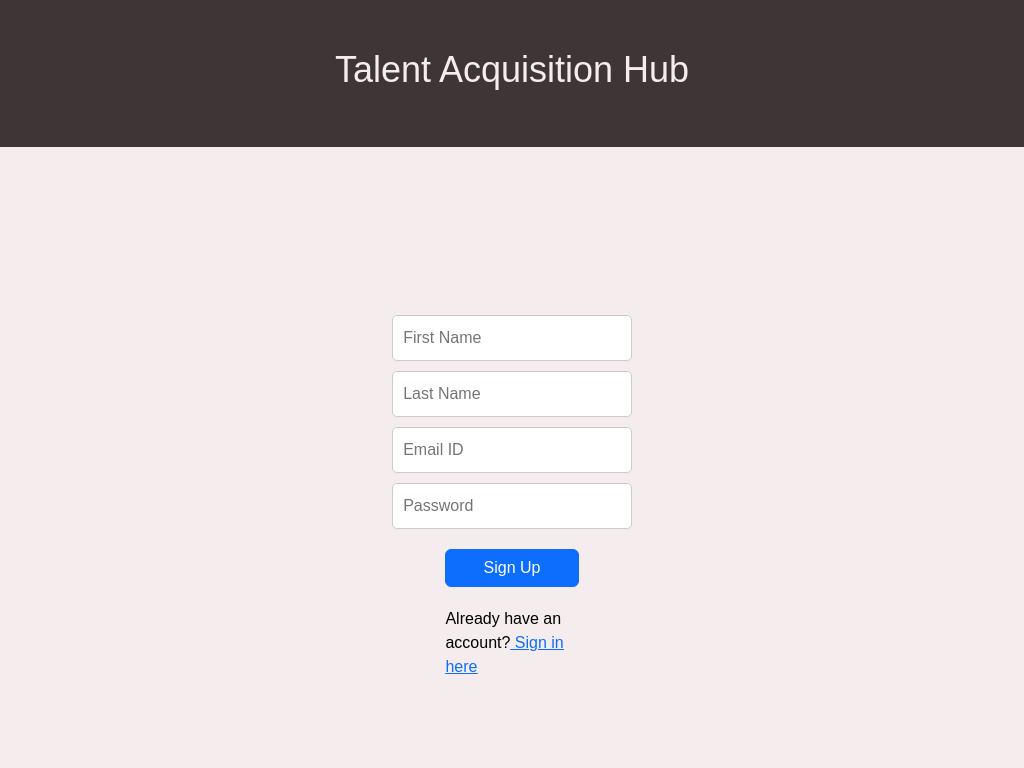
Test case: Register Page › should show a success message after submitting valid registration data
Type "navya" into the field with placeholder "First Name" at (512, 338), box [392,315,632,361]
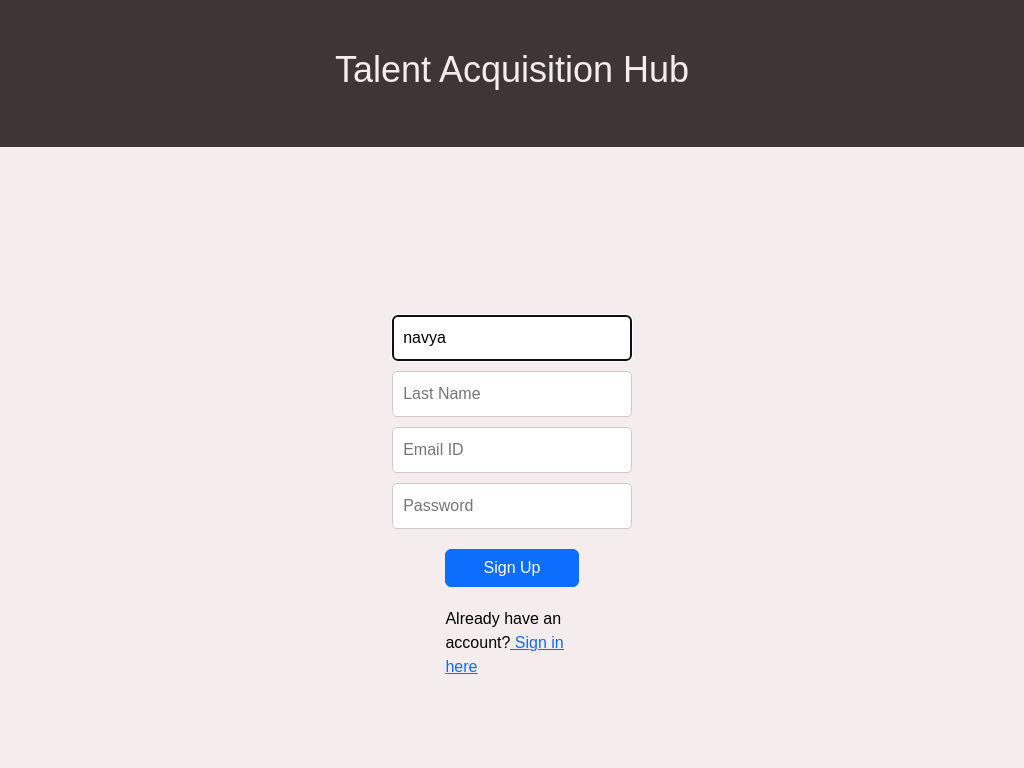
Type "k" into the field with placeholder "Last Name" at (512, 394), box [392,371,632,417]
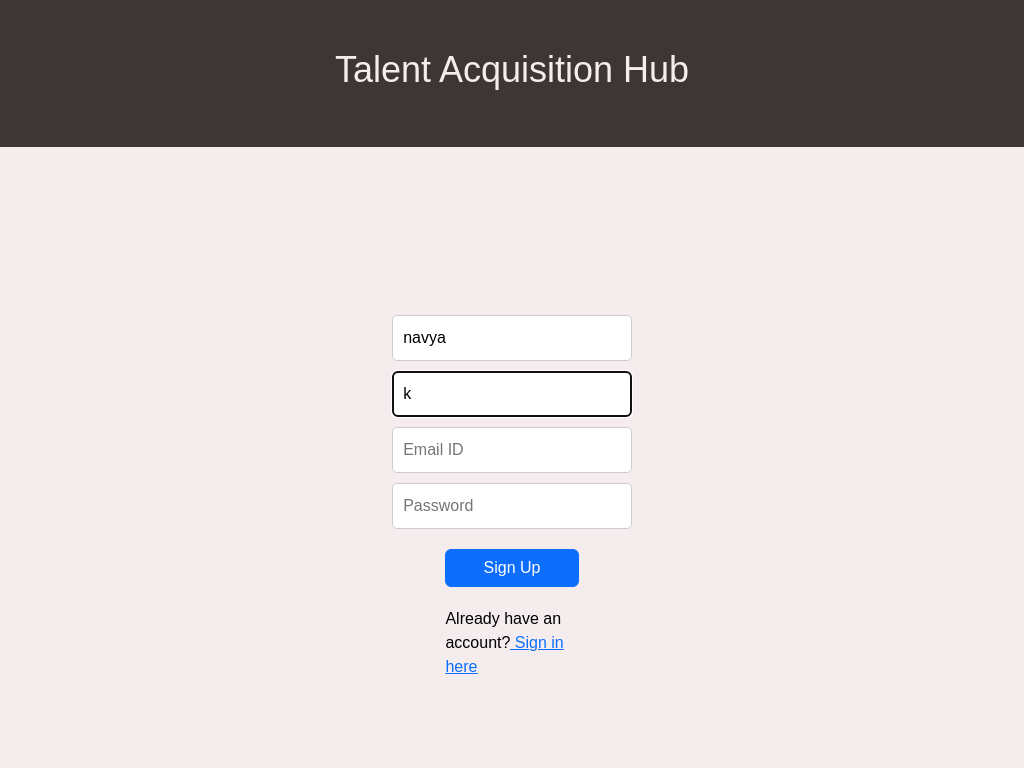
Type "navyak@gmail.com" into the field with placeholder "Email ID" at (512, 450), box [392,427,632,473]
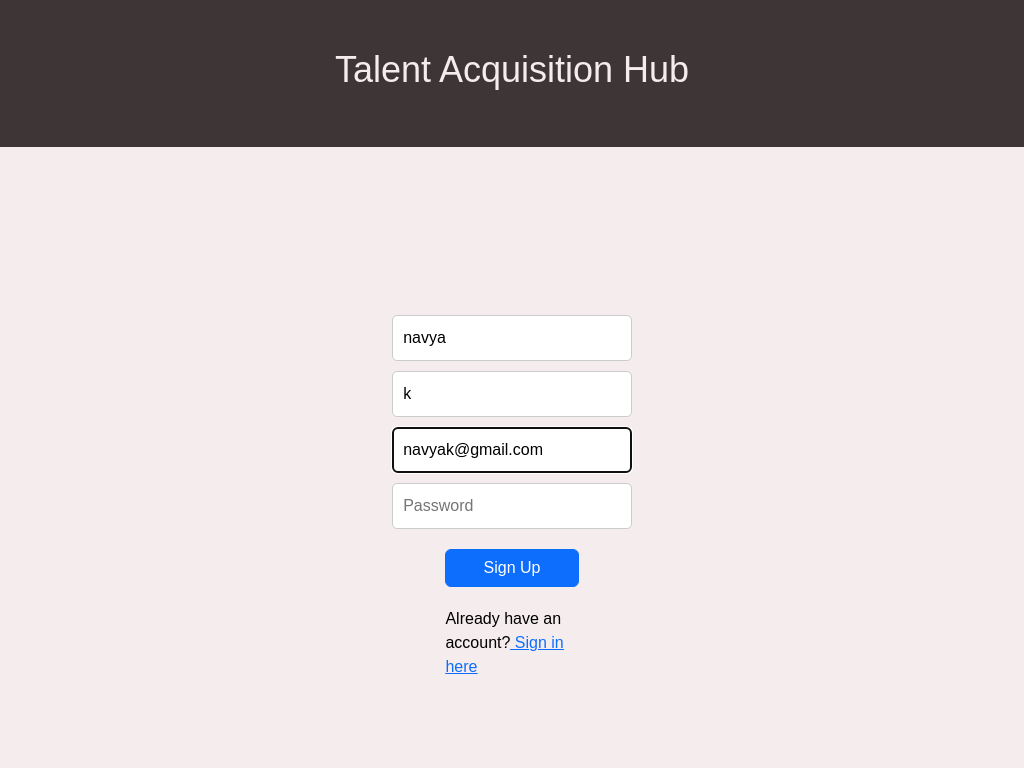
Type "navyak" into the password field with placeholder "Password" at (512, 506), box [392,483,632,529]
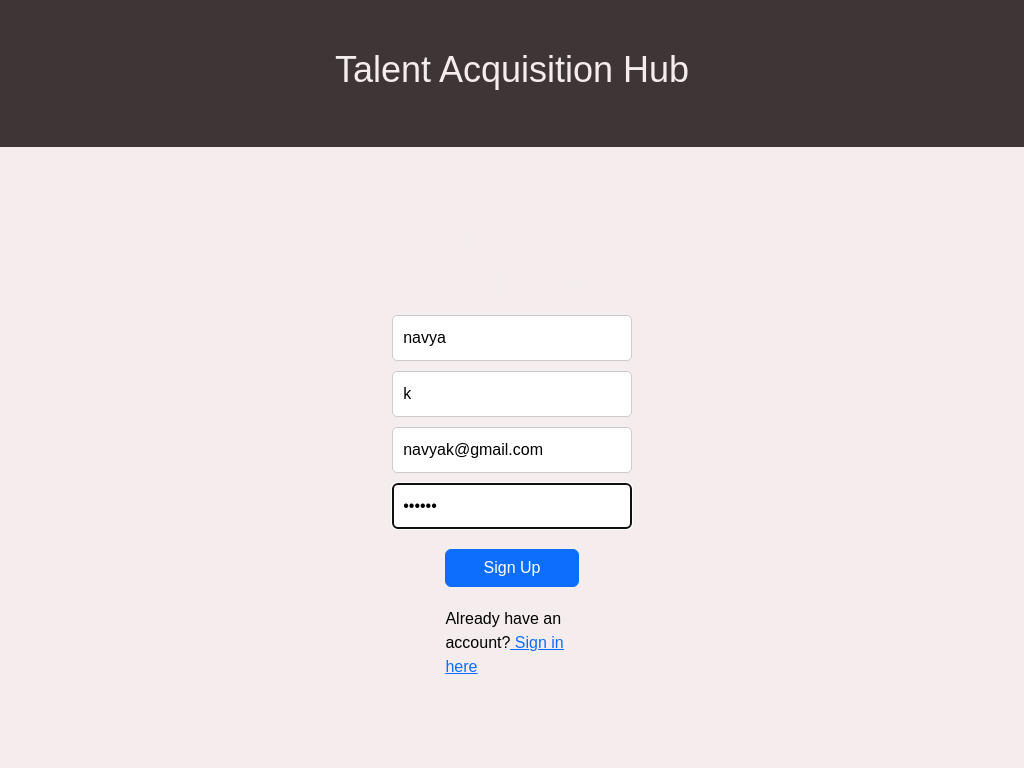
Click the submit button at (512, 568), box [445,549,578,587]
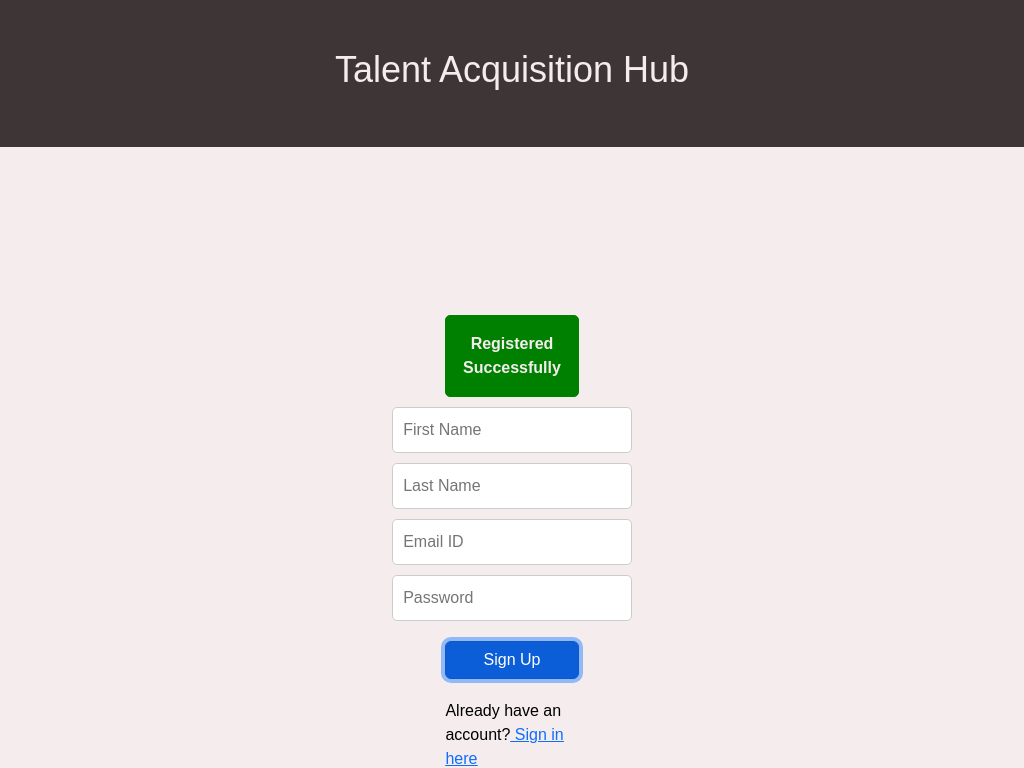
Now the text with class "successMsg" reads "Registered Successfully", box [445,315,578,397]
